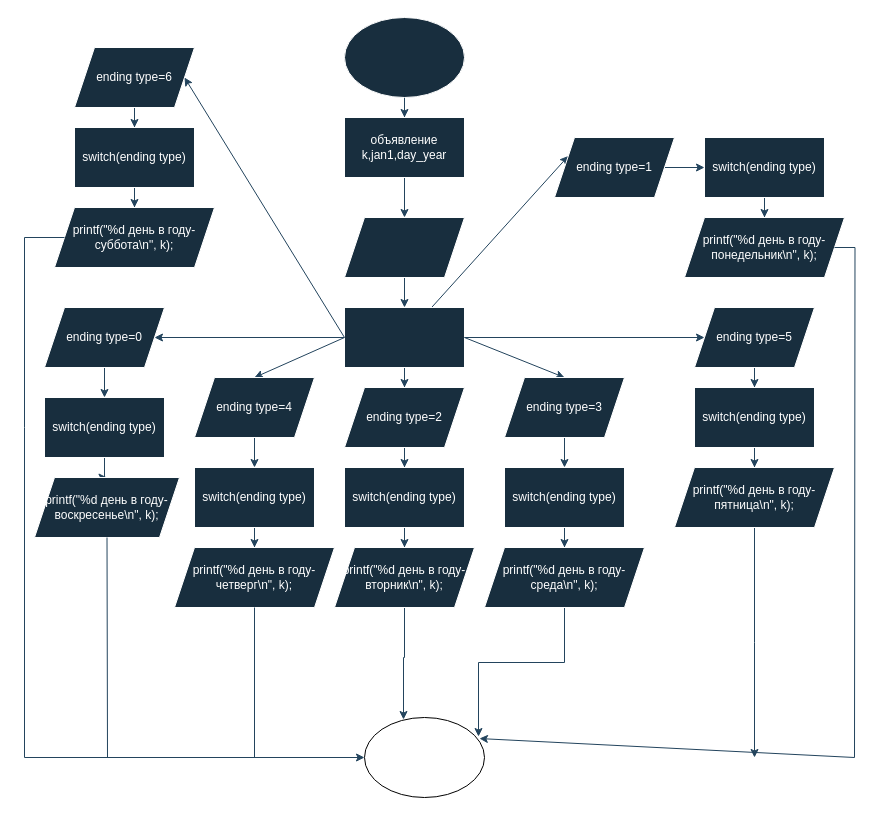
Some shapes in this 880 by 815 pixel diagram are drawn without their labels. The shapes that lost their labels are listed below. From the top down, each one's centre as x and y in pixels, then its label:
At (404,57): "начало".
At (404,247): "ввод k,jan1".
At (404,337): "switch(day_year)".
